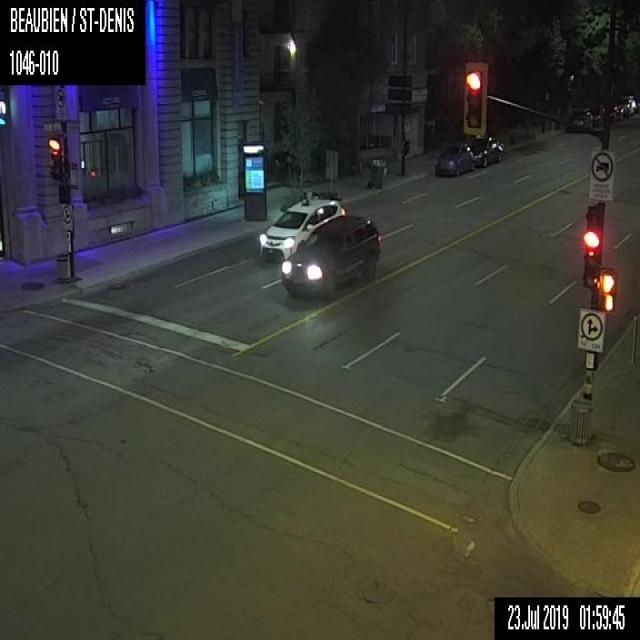vehicle: (280, 215, 380, 299), (256, 190, 346, 262), (434, 138, 474, 174), (466, 134, 504, 168), (565, 101, 603, 132), (606, 94, 639, 125)
